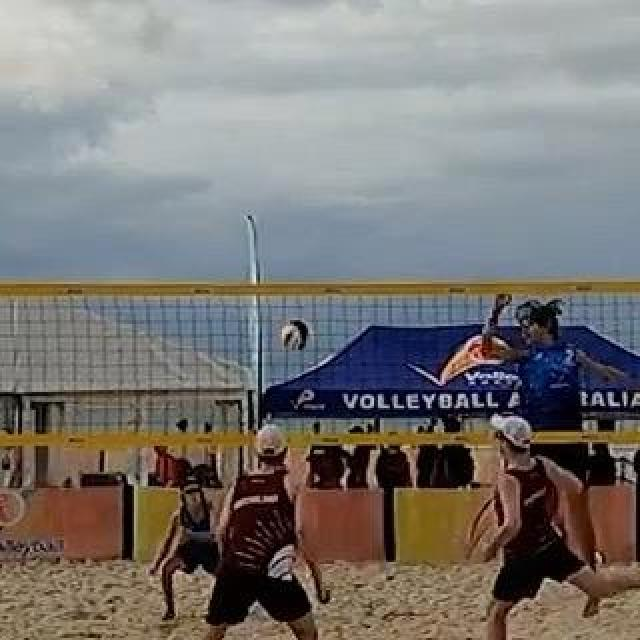volleyball: (281, 320, 309, 350)
